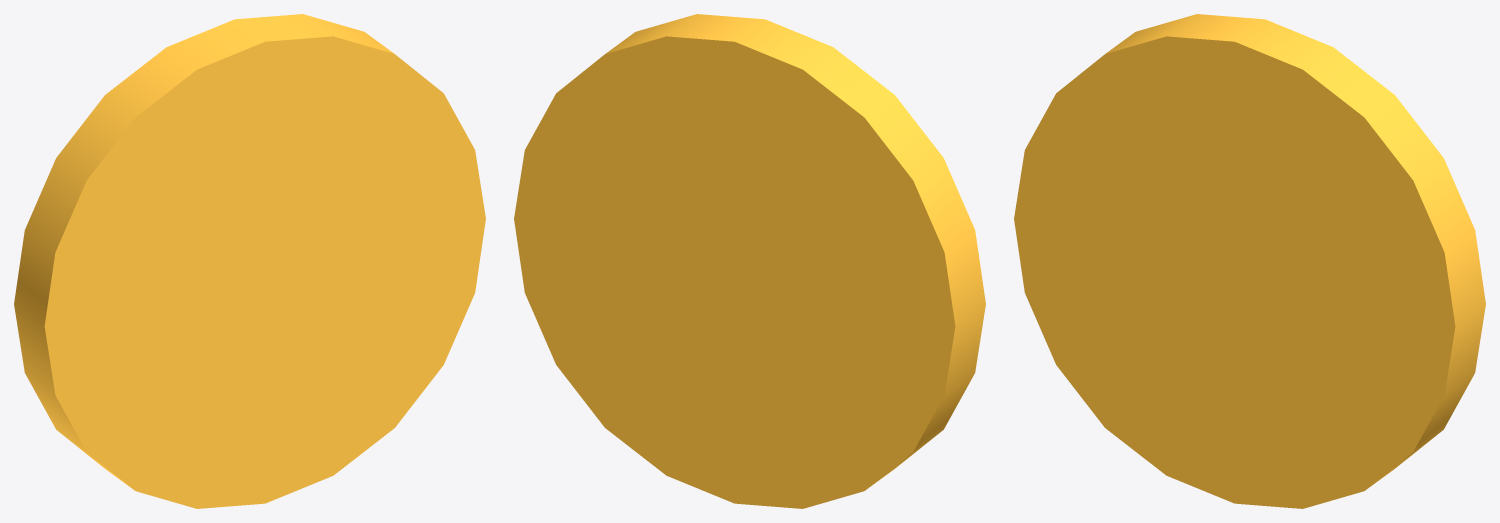
File: telly_coin.glb
3 views of the same model, side by side, from view 1: azimuth 30°, elevation 25°; view 2: azimuth 150°, elevation 25°; view 3: azimuth 330°, elevation 25° (orthographic).
Parts seen in each view (by area): view 1: coin; view 2: coin; view 3: coin.
Part boxes in pixels (bbox=[...]): coin: bbox=[14, 14, 485, 508]; coin: bbox=[514, 14, 985, 508]; coin: bbox=[1014, 14, 1485, 508].
Size of the model in its own units: 0.1 by 0.1 by 0.012.
